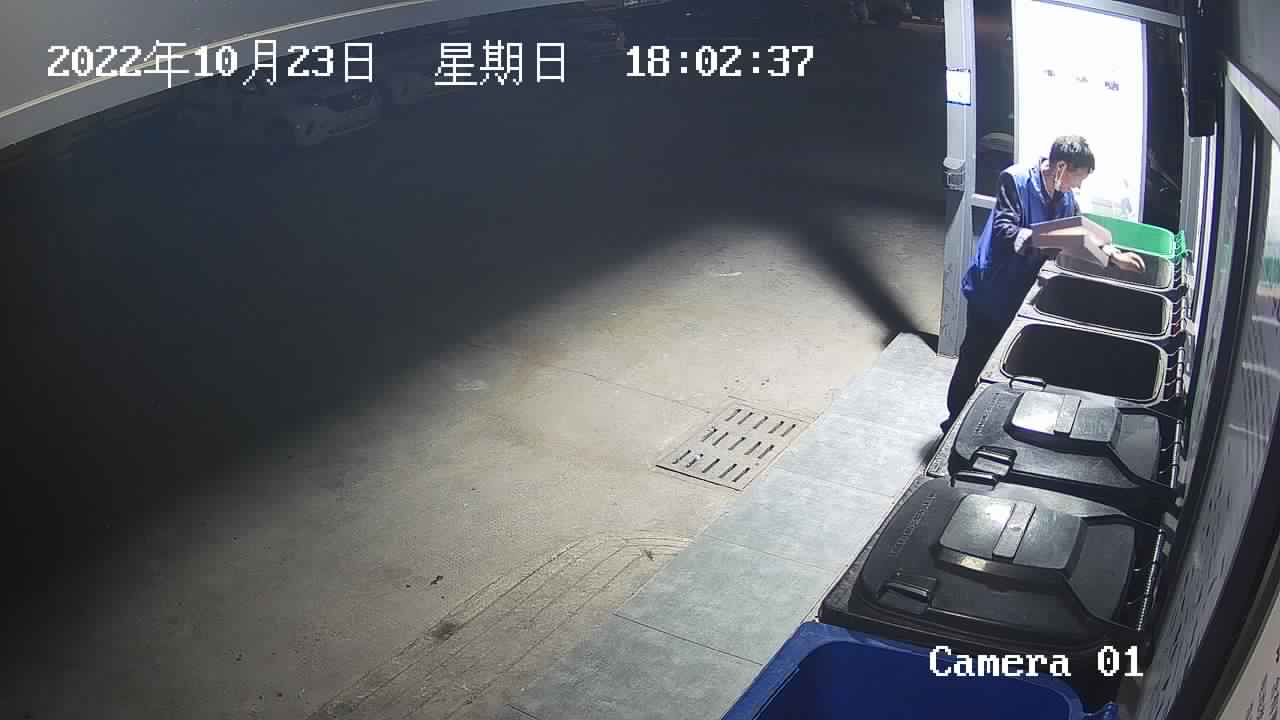worker: (938, 133, 1148, 446)
zhizhipin: (1028, 211, 1115, 272)
